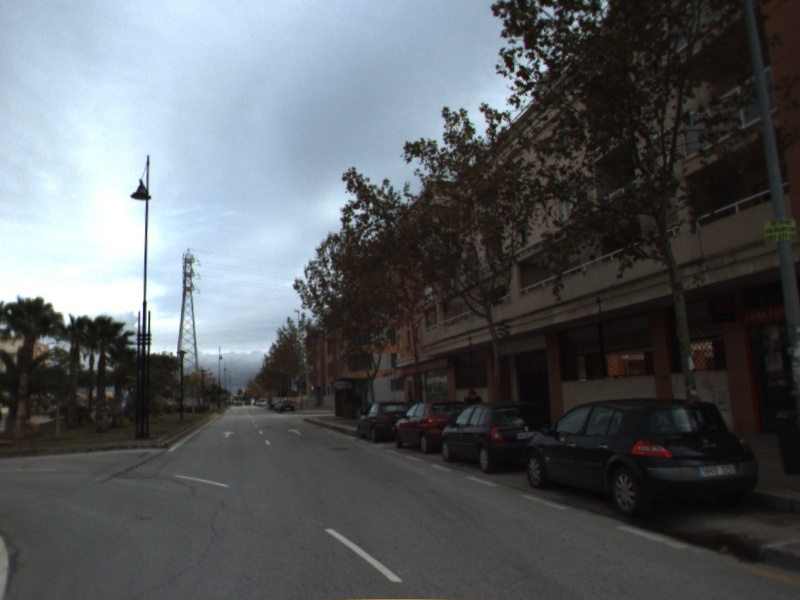STRAIGHT: (286, 426, 304, 437), (220, 429, 236, 439)
